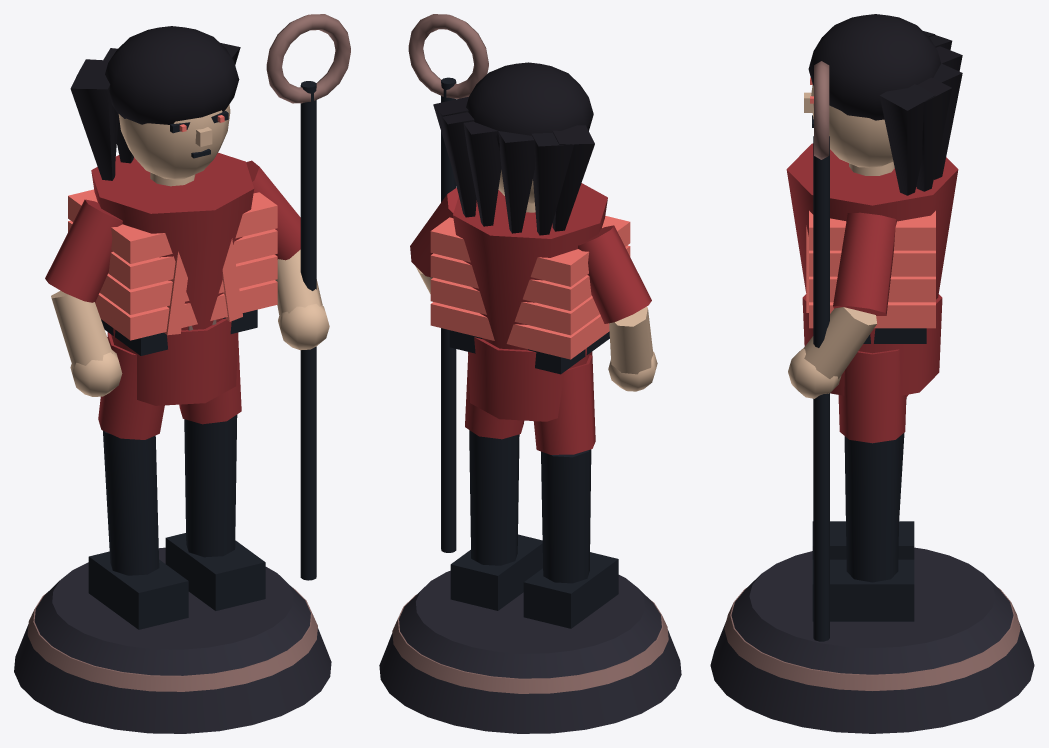
File: madara.glb
3 views of the same model, side by side, from view 1: azimuth 30°, elevation 25°; view 2: azimuth 150°, elevation 25°; view 3: azimuth 270°, elevation 25° (orthographic). The views are drawn at different scales.
Parts seen in each view (by area): view 1: Placeholder Madara Uchiha; view 2: Placeholder Madara Uchiha; view 3: Placeholder Madara Uchiha.
Boxes of the visible parts, x1,y1,x2,y2 form: Placeholder Madara Uchiha: [14, 14, 350, 733]; Placeholder Madara Uchiha: [379, 14, 681, 733]; Placeholder Madara Uchiha: [710, 14, 1034, 733].
Bounding box in the file's own units: 0.57 × 1.2 × 0.54.
